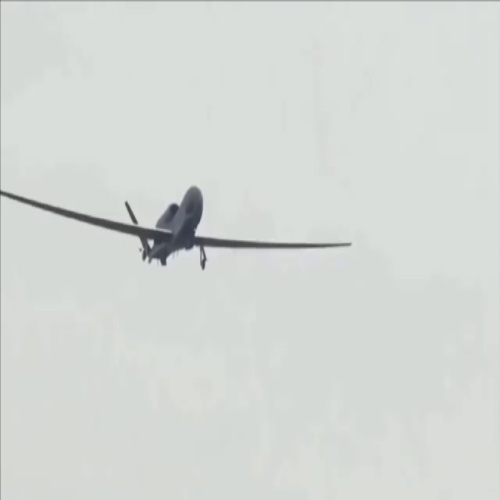uav865: (3, 182, 359, 274)
